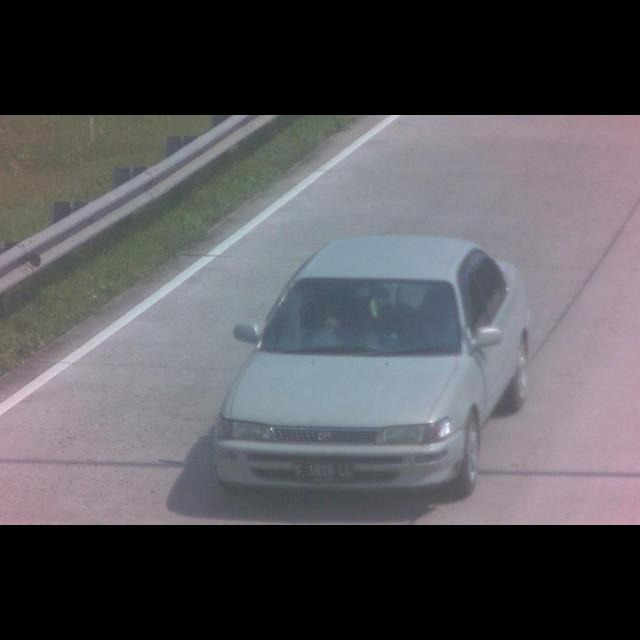plate: (292, 462, 356, 486)
